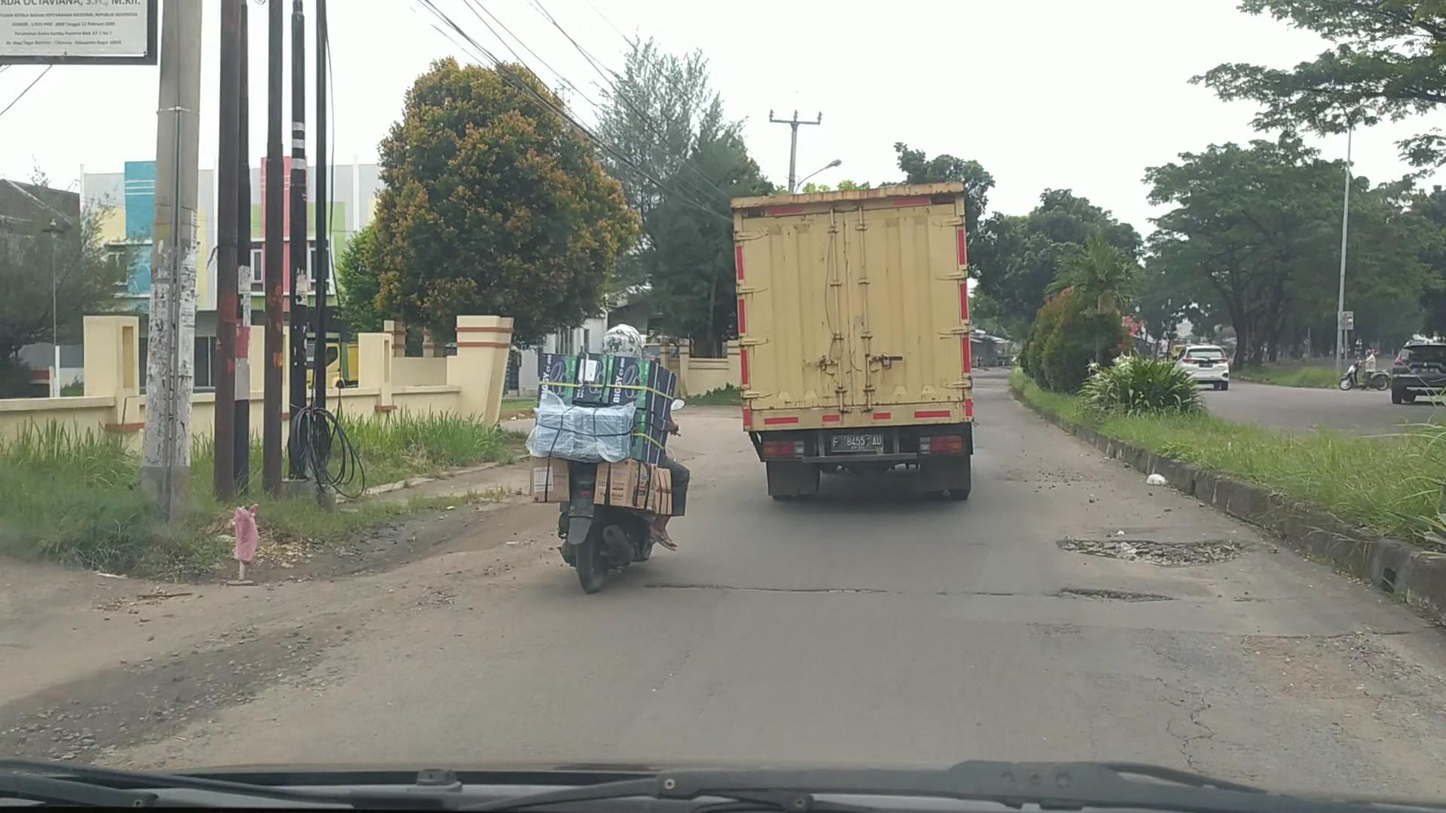pothole: (1061, 537, 1244, 567), (1064, 587, 1168, 606)
